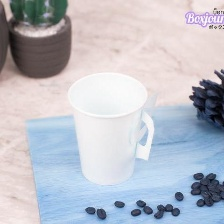paper_cup: (63, 67, 159, 189)
